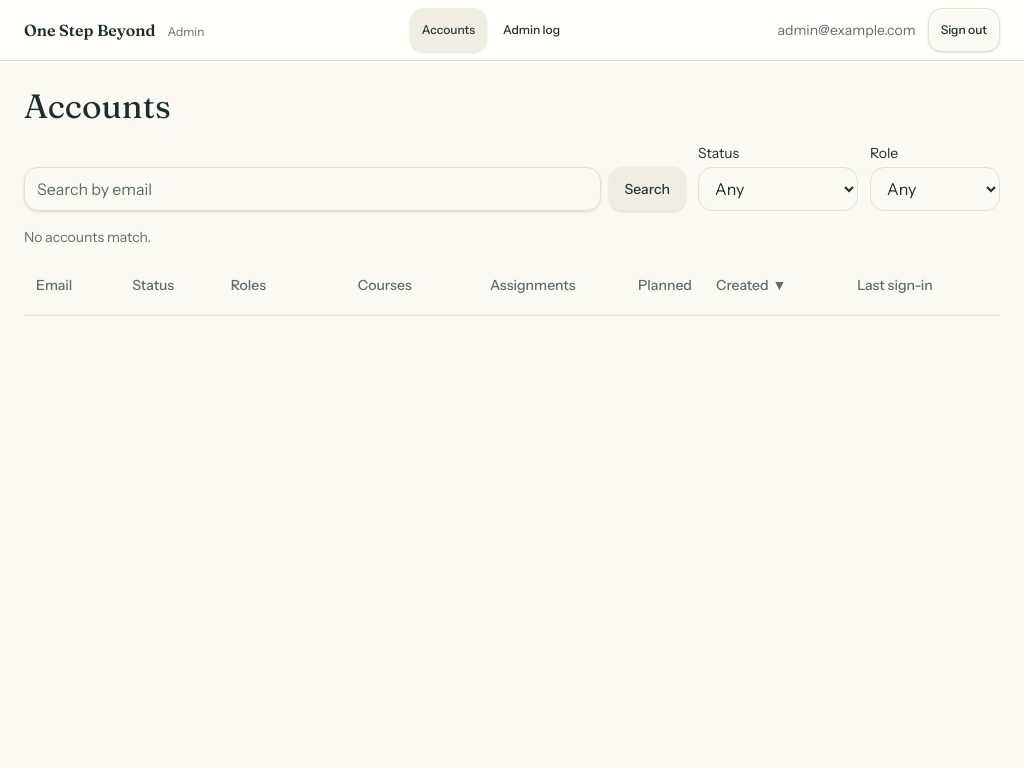
Test: AdminApp (admin-account-management-v0.1.md, A2) › the Admin log view (admin-action-log-v0.1.md, L1 and G3) › opening an account from the log: Back reads '← Admin log' and keeps the filters
The image size is (1024, 768).
Click the button "Admin log" at coordinates (532, 30), box x1=491 y1=8 x2=572 y2=52
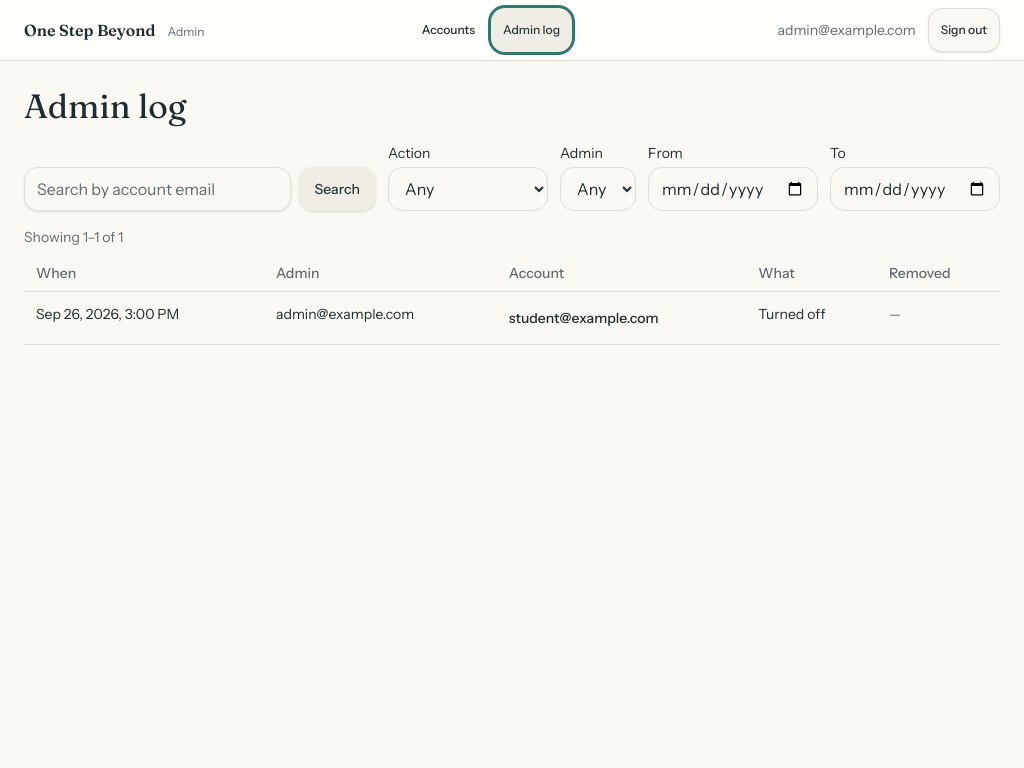
Select "Turned off" in the dropdown labelled "Action" at coordinates (468, 189), box x1=388 y1=167 x2=548 y2=211
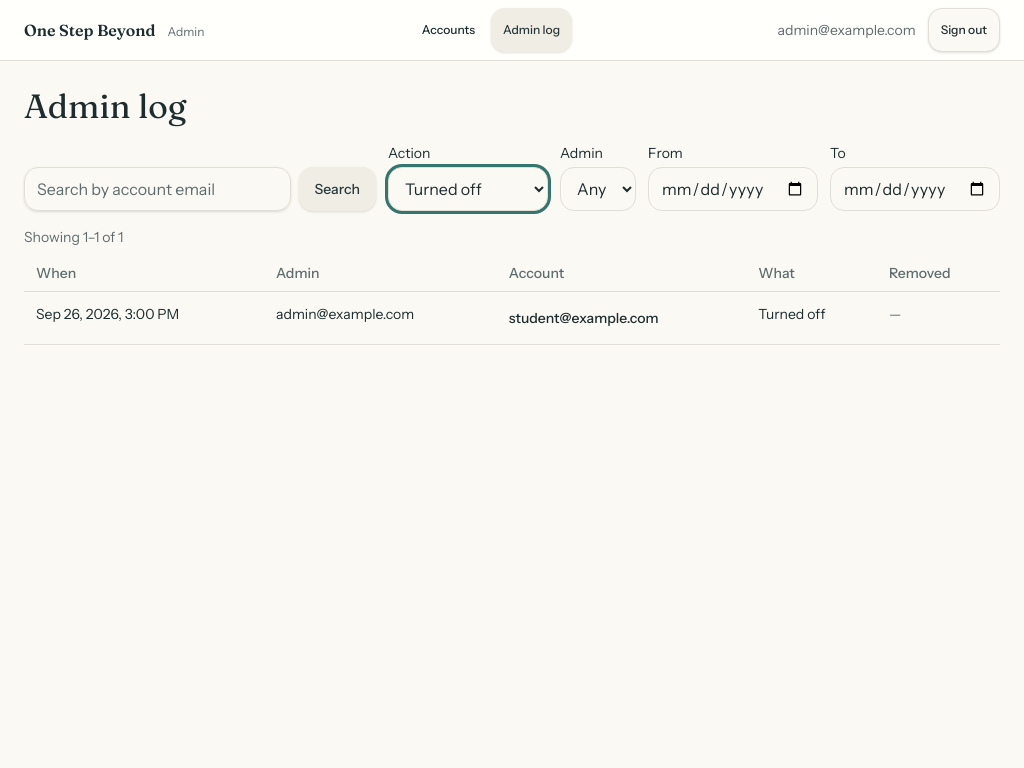
Click the button "student@example.com" at coordinates (584, 318), box x1=509 y1=296 x2=659 y2=340
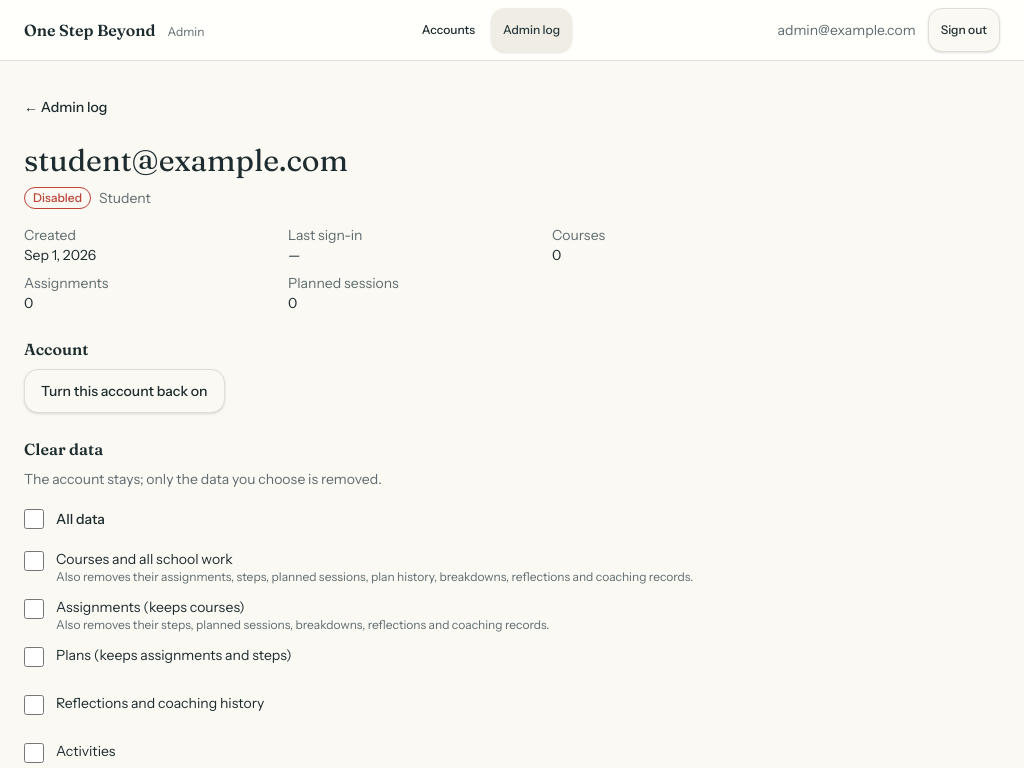
Click the button "← Admin log" at coordinates (66, 107), box x1=12 y1=85 x2=119 y2=129
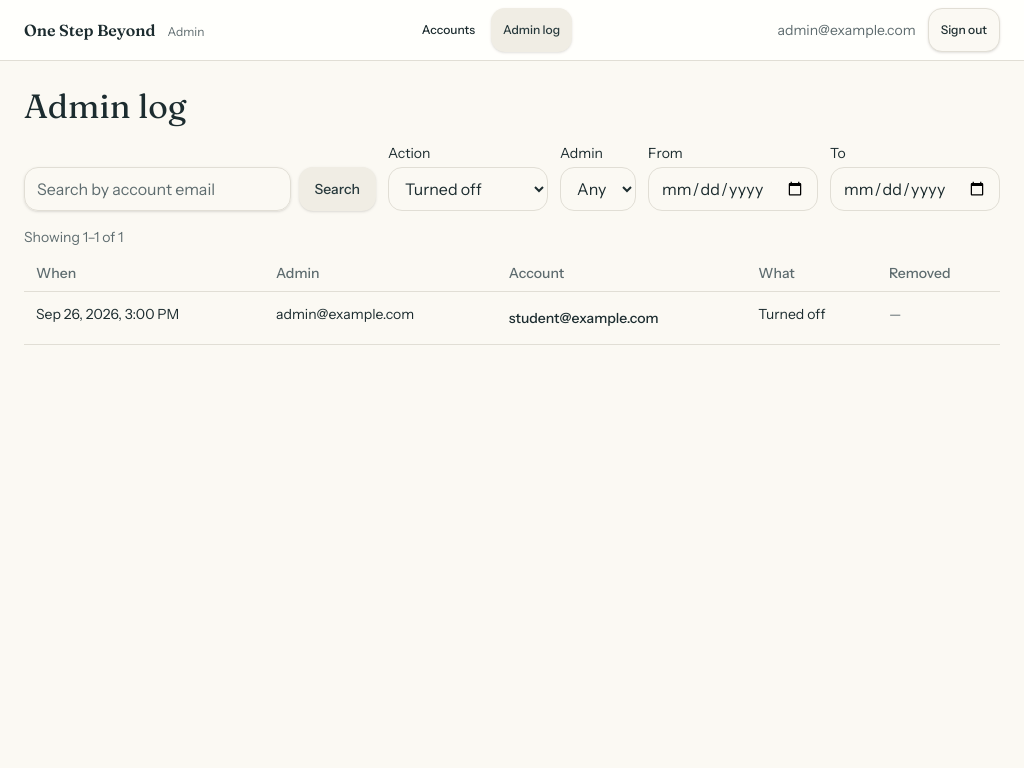
Result: the heading "Admin log" is shown at x1=24 y1=85 x2=186 y2=127
Result: the dropdown labelled "Action" shows "Turned off" at x1=388 y1=167 x2=548 y2=211
